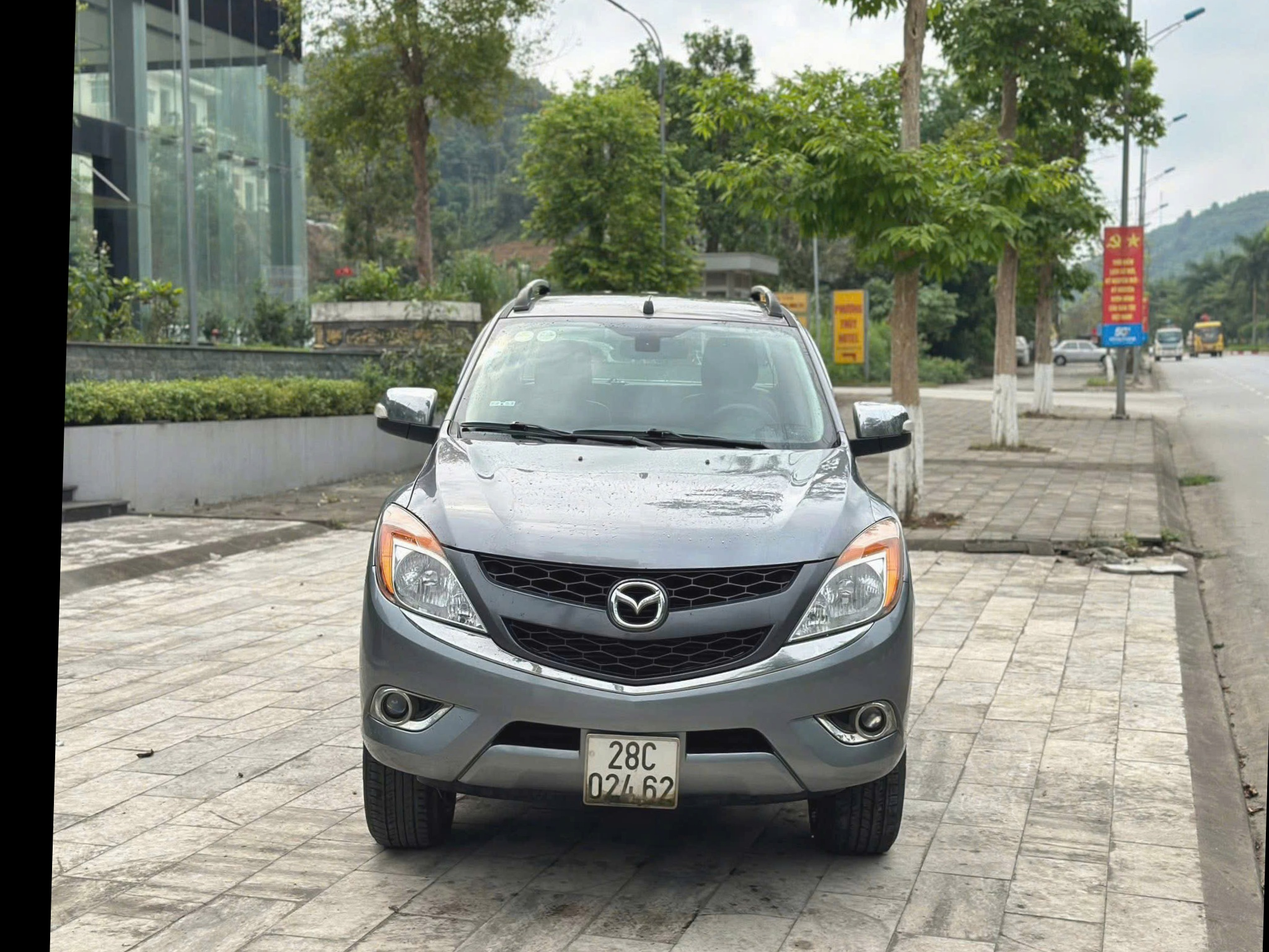Bien-so: (572, 723, 675, 802)
